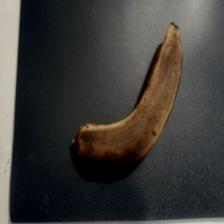Banana Rotten: (133, 10, 189, 169), (70, 98, 174, 172)
